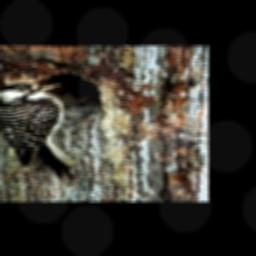Woodpecker: (0, 81, 80, 180)
